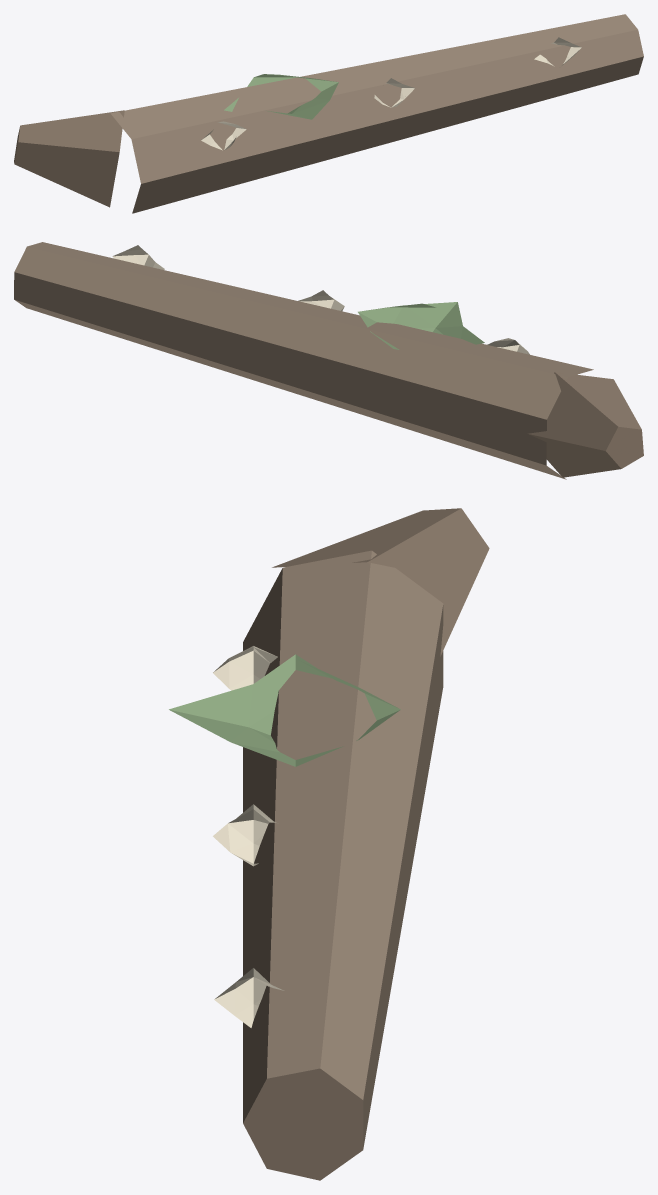
File: log_v10.glb
3 views of the same model, one above another, from view 1: azimuth 30°, elevation 25°; view 2: azimuth 150°, elevation 25°; view 3: azimuth 270°, elevation 25° (orthographic). The views are drawn at different scales.
Parts seen in each view (by area): view 1: lod0; view 2: lod0; view 3: lod0.
Part boxes in pixels (x1,y1,x2,y2): lod0: (14, 14, 643, 213); lod0: (14, 242, 643, 479); lod0: (169, 508, 489, 1180).
Size of what is drawn, in the model's own units: 3.59 by 0.6385 by 0.8531.
